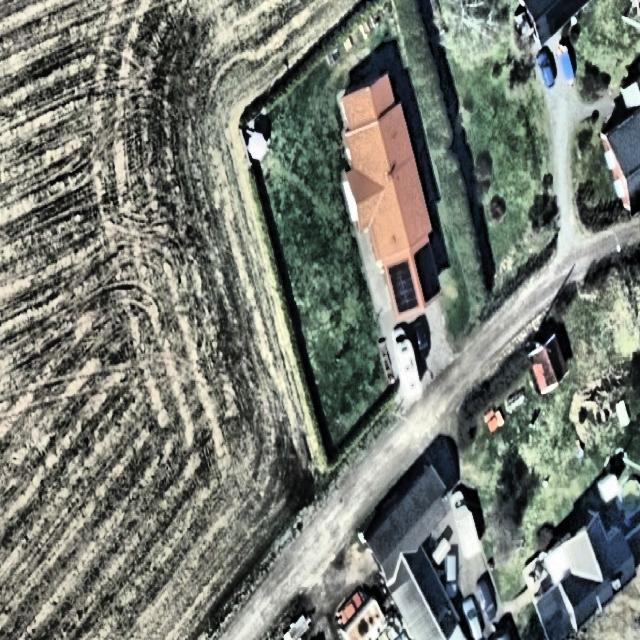roof_pv: (385, 256, 420, 316), (413, 245, 439, 303)
